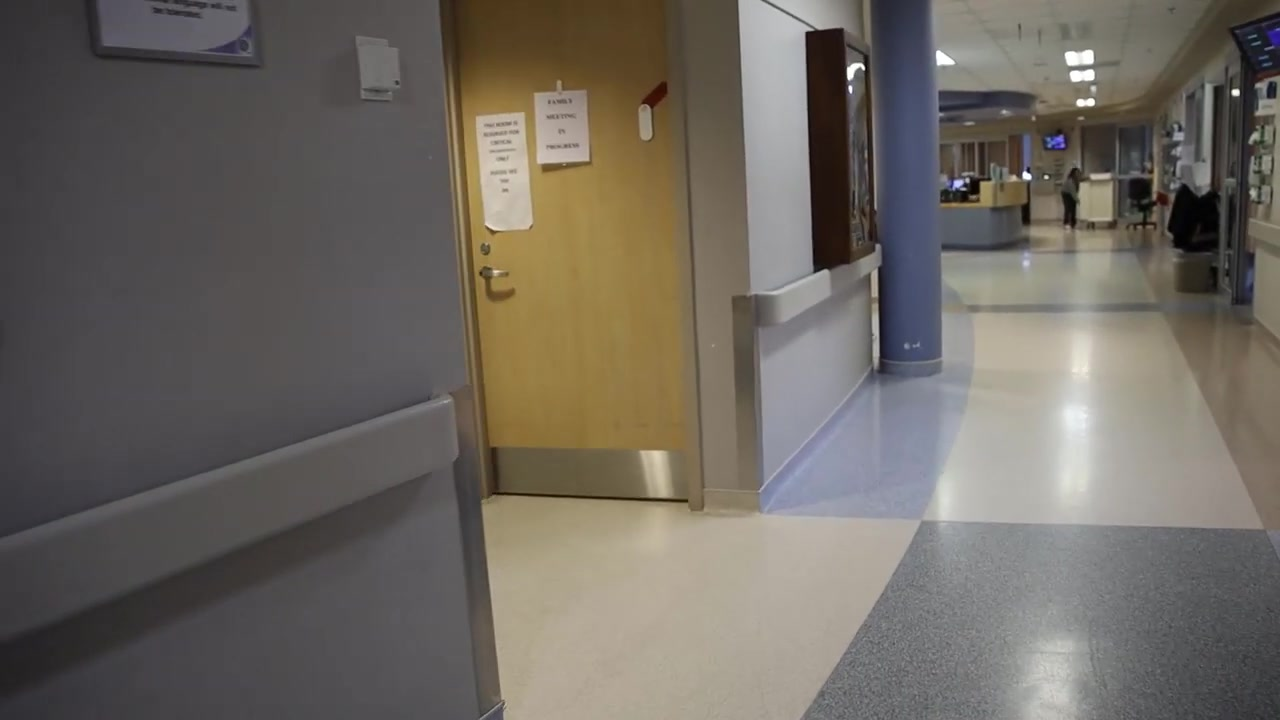TV: (1231, 14, 1280, 79), (1042, 132, 1067, 150)
chair: (1123, 177, 1159, 231)
counter: (938, 176, 1027, 248)
door_handle: (479, 266, 514, 281)
hallway_assist_bar: (1, 390, 462, 655), (756, 241, 883, 326), (1247, 217, 1280, 247)
person: (1058, 166, 1089, 230)
waste_bin: (1171, 251, 1214, 292)
